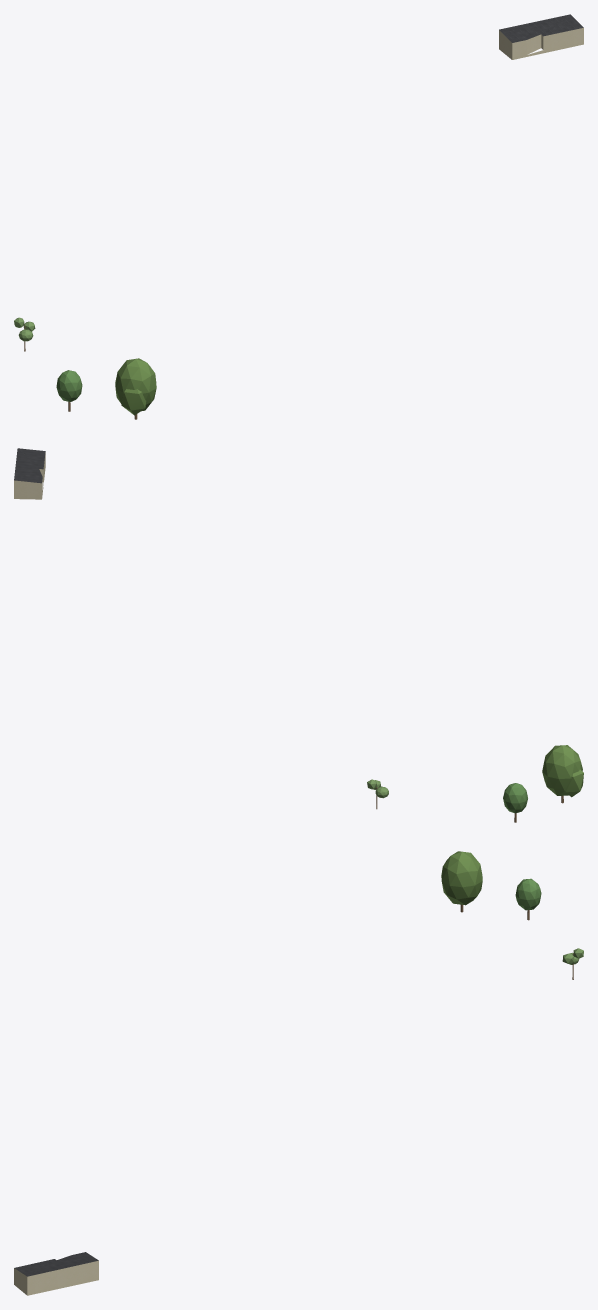
3 views of the same model, one above another, from view 1: azimuth 90°, elevation 25°; view 2: azimuth 150°, elevation 25°; view 3: azimuth 270°, elevation 25° (orthographic). The views are drawn at different scales.
Parts seen in each view (by area): view 1: tree_5980, bldg_6003955002, bldg_6003955002_roof, tree_9885; view 2: tree_5980, bldg_6003955002_roof, tree_9885, bldg_6003955002; view 3: tree_5980, bldg_6003955002, bldg_6003955002_roof, tree_9885.
Boxes of the visible parts, x1,y1,x2,y2 form: tree_5980: (115, 358, 156, 419); bldg_6003955002: (499, 28, 583, 59); bldg_6003955002_roof: (499, 14, 583, 42); tree_9885: (56, 370, 82, 411); tree_5980: (542, 745, 583, 803); bldg_6003955002_roof: (14, 448, 45, 483); tree_9885: (503, 783, 527, 822); bldg_6003955002: (14, 452, 45, 499); tree_5980: (441, 851, 482, 912); bldg_6003955002: (14, 1260, 98, 1295); bldg_6003955002_roof: (14, 1252, 98, 1276); tree_9885: (515, 878, 541, 920).
Size of the model in its own units: 112 by 7.93 by 68.09.
3 materials, 2 textured.
